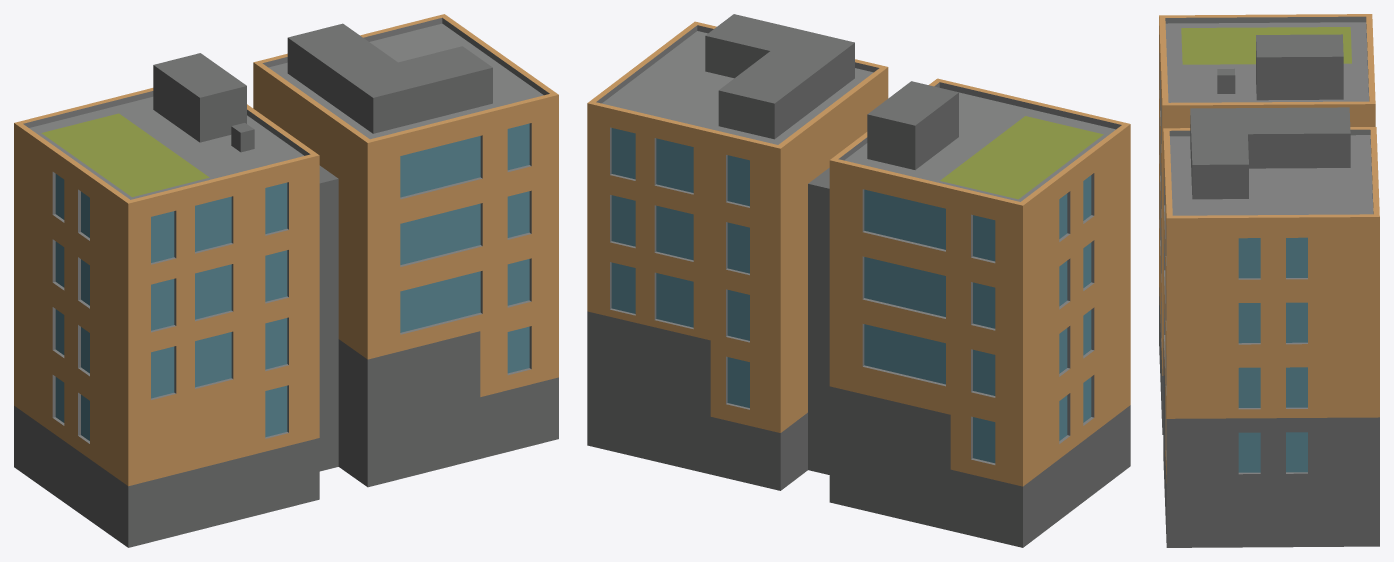
The model's file is House 4.fbx.
3 views of the same model, side by side, from view 1: azimuth 30°, elevation 25°; view 2: azimuth 150°, elevation 25°; view 3: azimuth 270°, elevation 25° (orthographic). The views are drawn at different scales.
Visible parts, largest first — view 1: House 4; view 2: House 4; view 3: House 4.
Boxes of the visible parts, x1=… form: House 4: x1=14, y1=14, x2=558, y2=547; House 4: x1=587, y1=14, x2=1130, y2=547; House 4: x1=1159, y1=14, x2=1379, y2=547.
Size of the model in its own units: 3.62 by 3.03 by 1.65.
